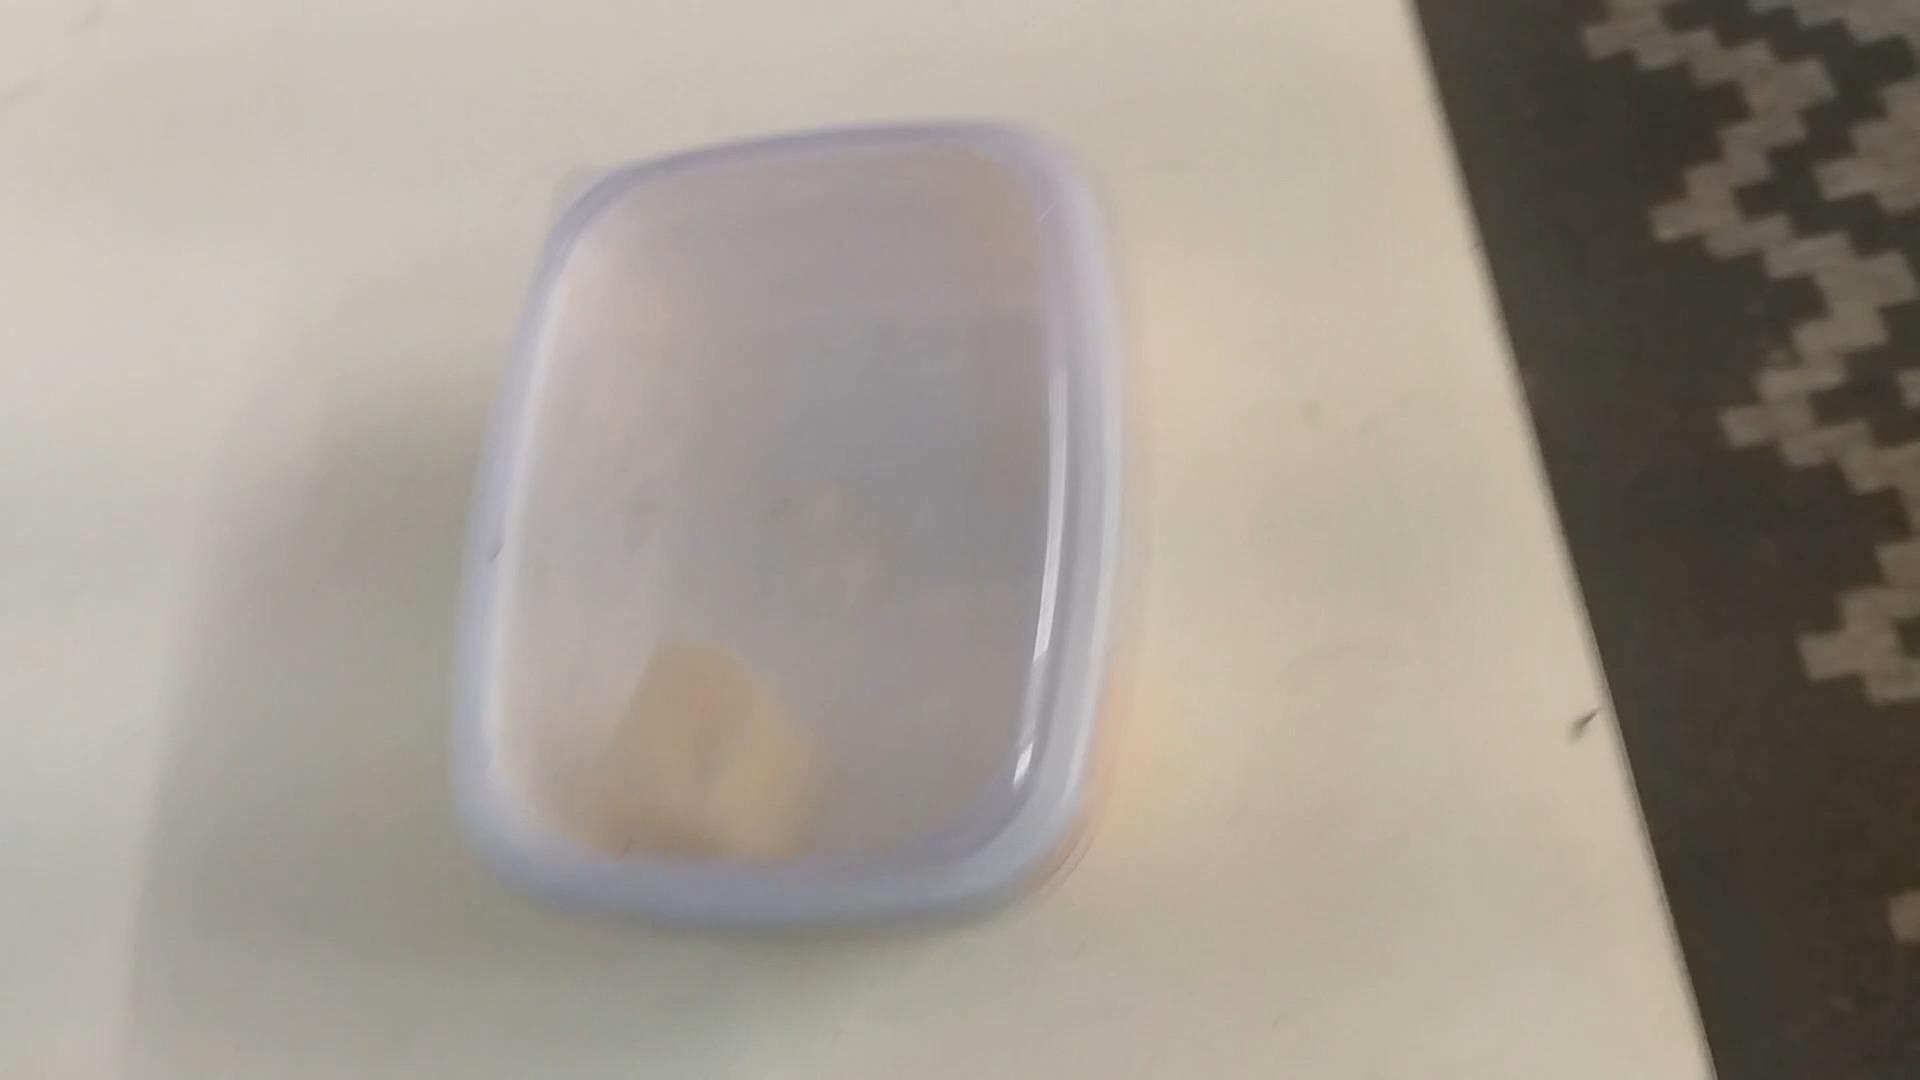butter: (450, 117, 1129, 942)
